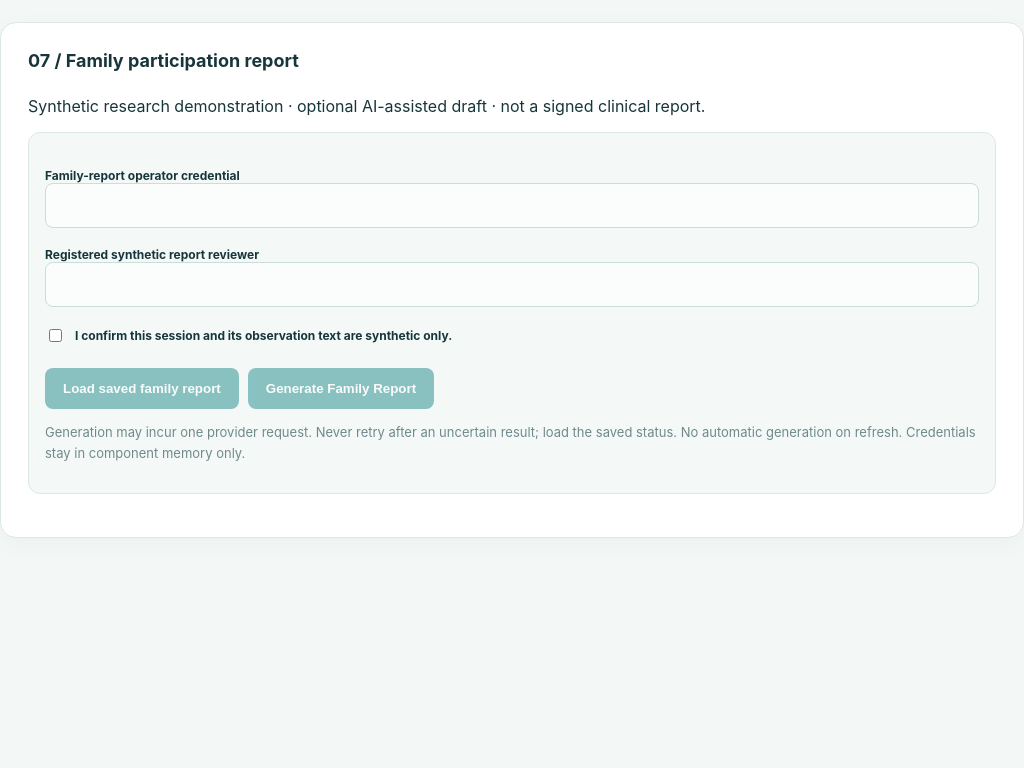
Test case: never generates automatically and collapses double clicks to one POST
In the password field labelled "Family-report operator credential": {"x": 512, "y": 206} [45,183,979,228], type "synthetic-test-operator-secret"
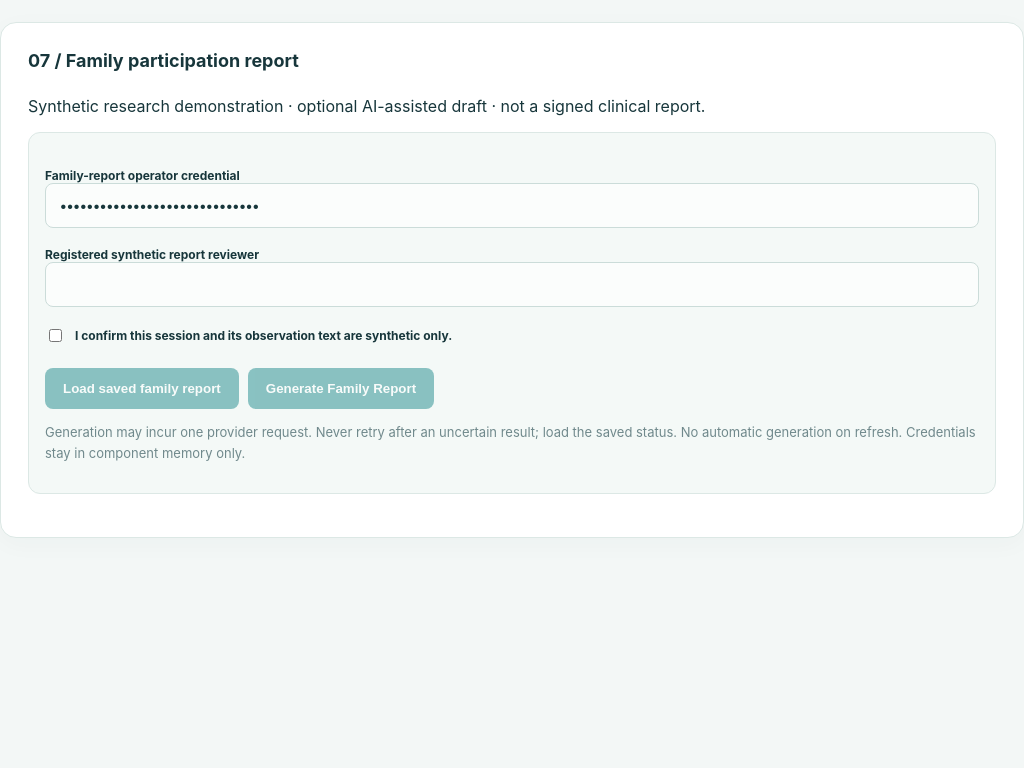
In the field labelled "Registered synthetic report reviewer": {"x": 512, "y": 284} [45,262,979,307], type "synthetic-reviewer"
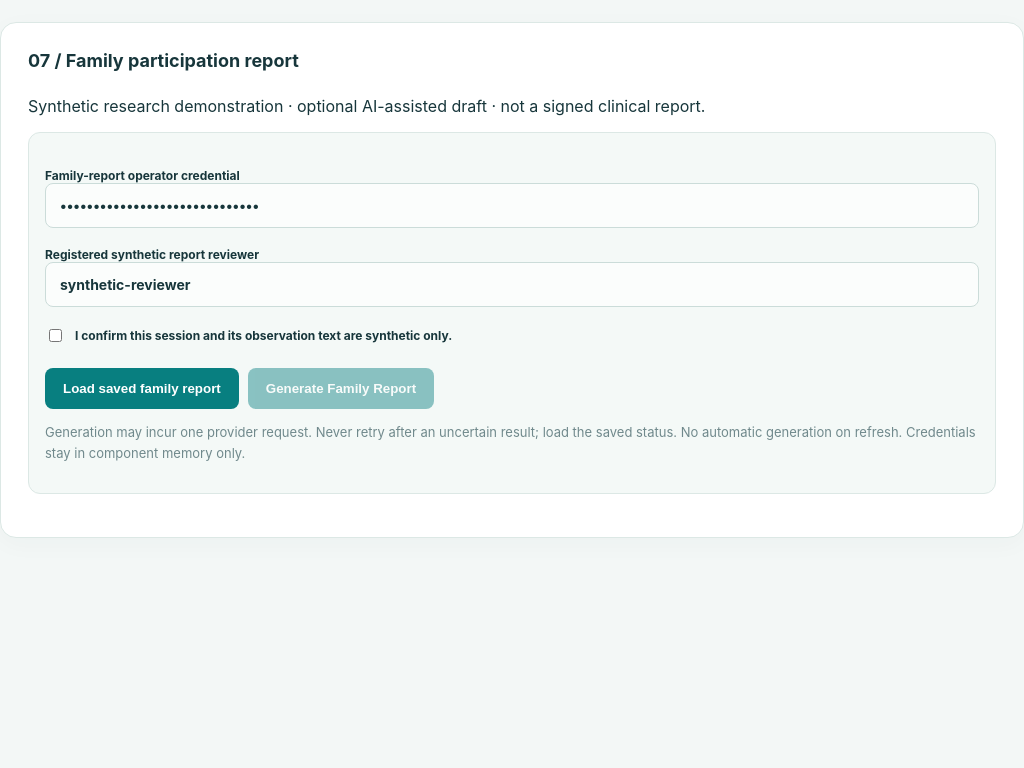
Click the checkbox labelled "I confirm this session": {"x": 56, "y": 336} [49,329,62,342]
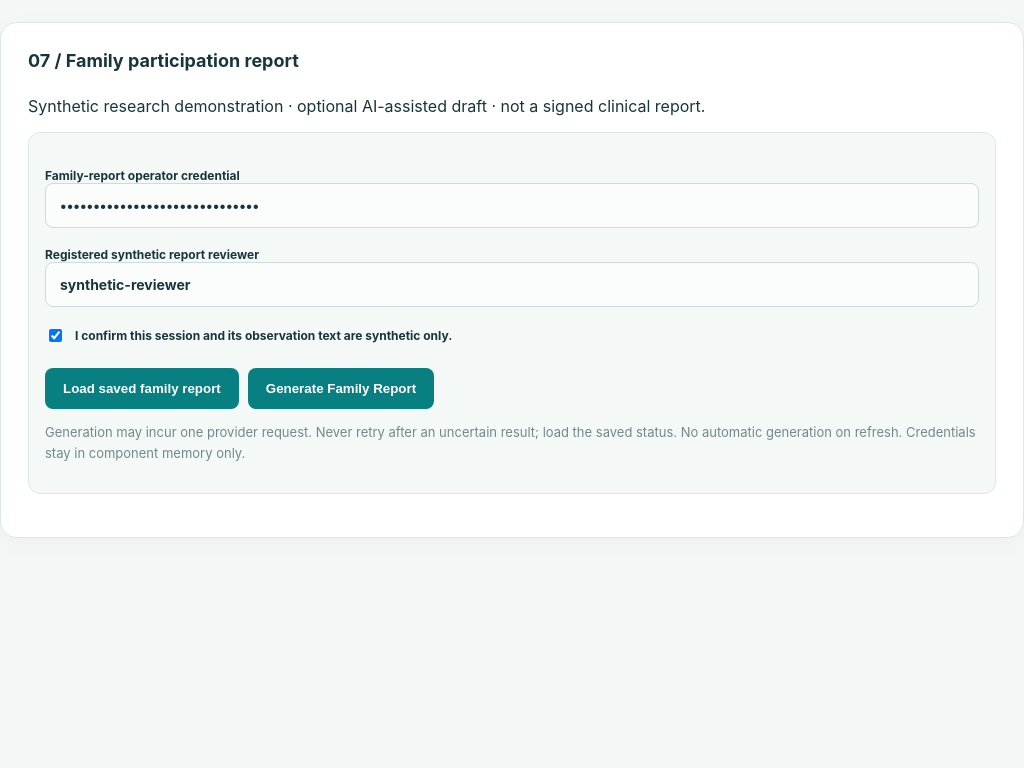
Click the button "Generate Family Report": {"x": 341, "y": 389} [248,368,434,409]
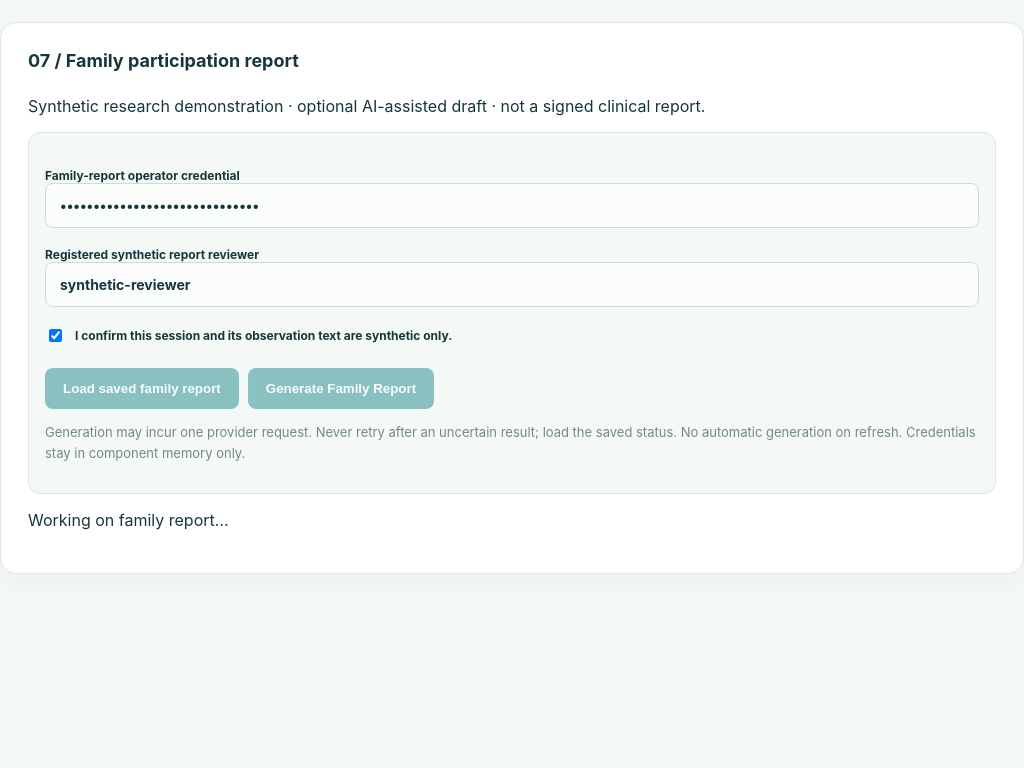
Click the button "Generate Family Report": {"x": 341, "y": 389} [248,368,434,409]
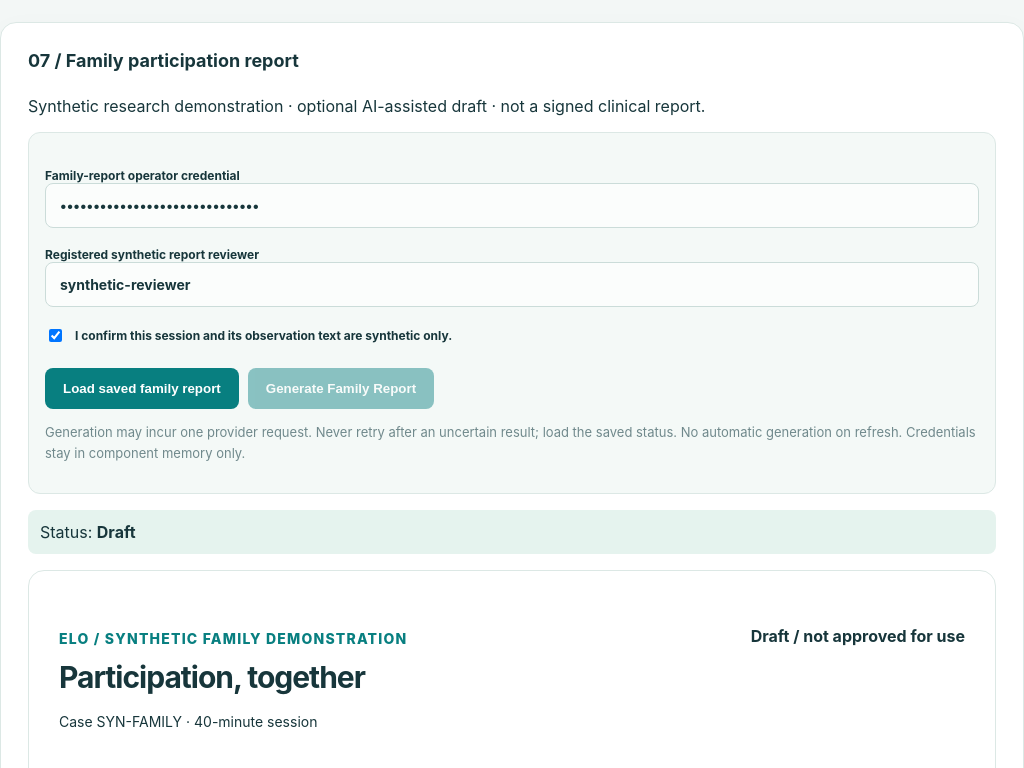
Expected: the button "Generate Family Report" is disabled, [248,368,434,409]
Expected: the text "Draft" is shown, [97,522,136,542]
